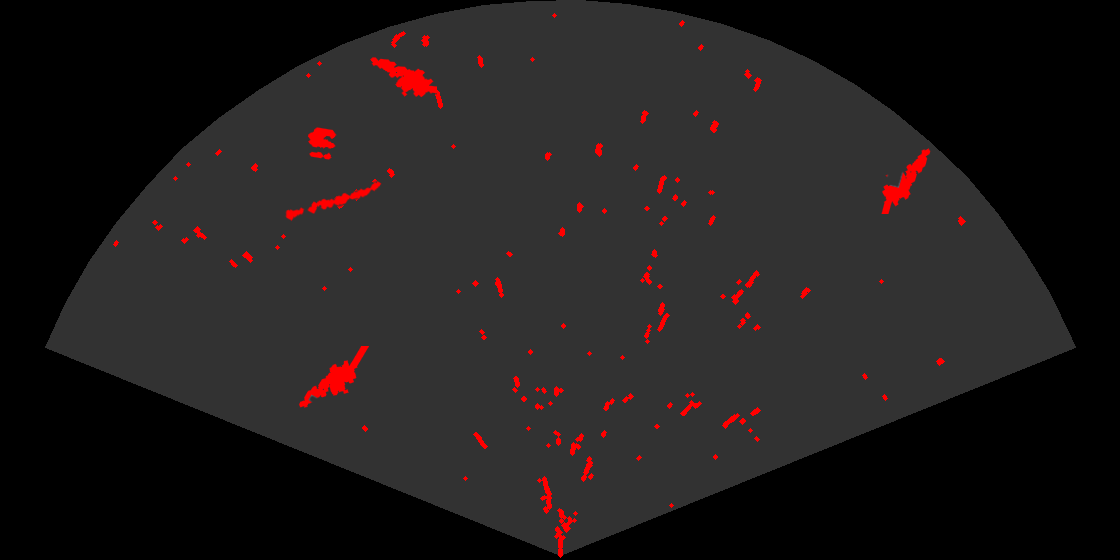ball: (306, 126, 338, 161)
chain: (283, 180, 383, 223)
frogman: (297, 346, 369, 409), (880, 147, 932, 214), (369, 56, 437, 99)
